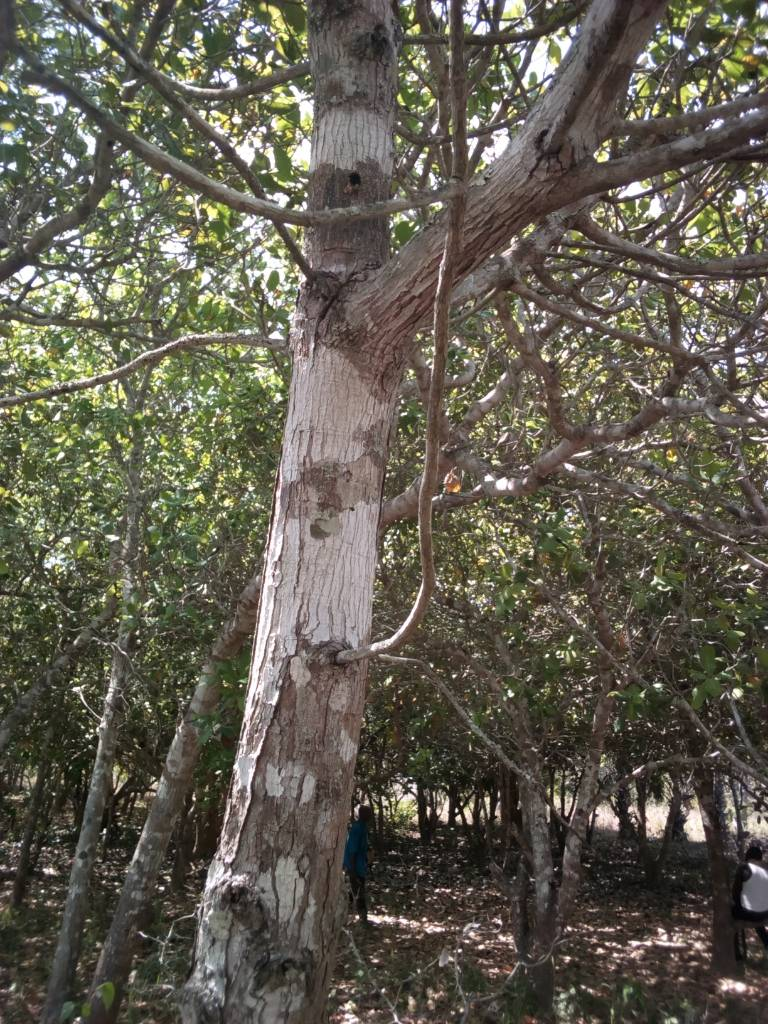Apate terebrans: (332, 160, 393, 205)
